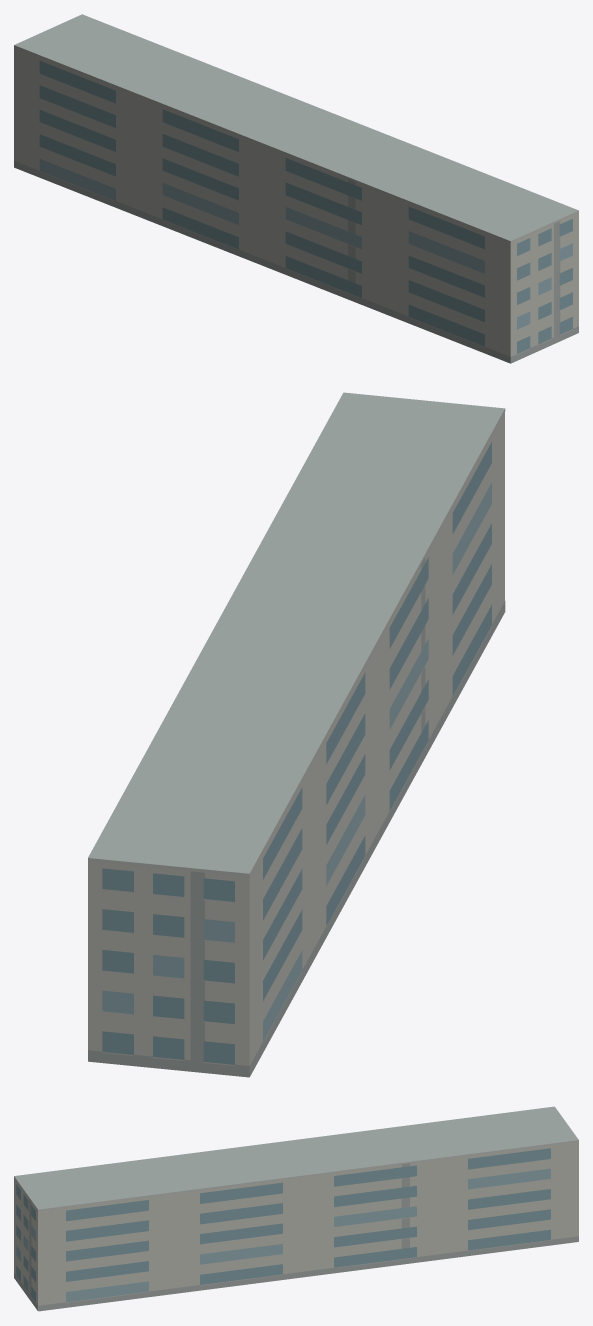
The model's file is residential-bf5a4b9b-dc15-40c8-8556-6aaf0fe95084.glb.
3 views of the same model, one above another, from view 1: azimuth 30°, elevation 25°; view 2: azimuth 150°, elevation 25°; view 3: azimuth 270°, elevation 25° (orthographic). The views are drawn at different scales.
Parts seen in each view (by area): view 1: residential-bf5a4b9b-dc15-40c8-8556-6aaf0fe95084.tmp; view 2: residential-bf5a4b9b-dc15-40c8-8556-6aaf0fe95084.tmp; view 3: residential-bf5a4b9b-dc15-40c8-8556-6aaf0fe95084.tmp.
Boxes of the visible parts, x1=… form: residential-bf5a4b9b-dc15-40c8-8556-6aaf0fe95084.tmp: x1=14, y1=14, x2=578, y2=363; residential-bf5a4b9b-dc15-40c8-8556-6aaf0fe95084.tmp: x1=88, y1=392, x2=505, y2=1077; residential-bf5a4b9b-dc15-40c8-8556-6aaf0fe95084.tmp: x1=14, y1=1106, x2=578, y2=1311.
Bounding box in the file's own units: 33.14 × 15.25 × 76.68.
